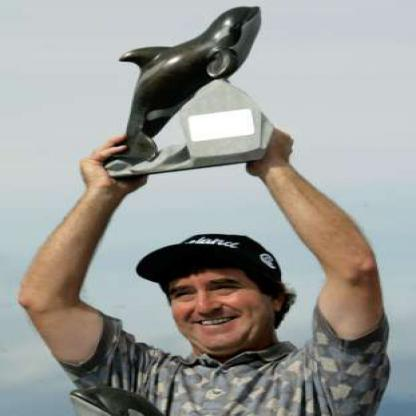face: (161, 237, 274, 352)
